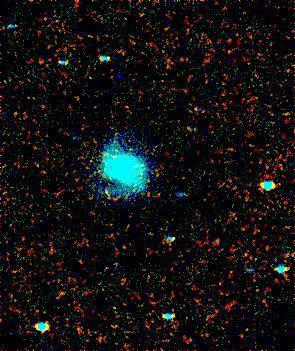star: (116, 138, 146, 168)
